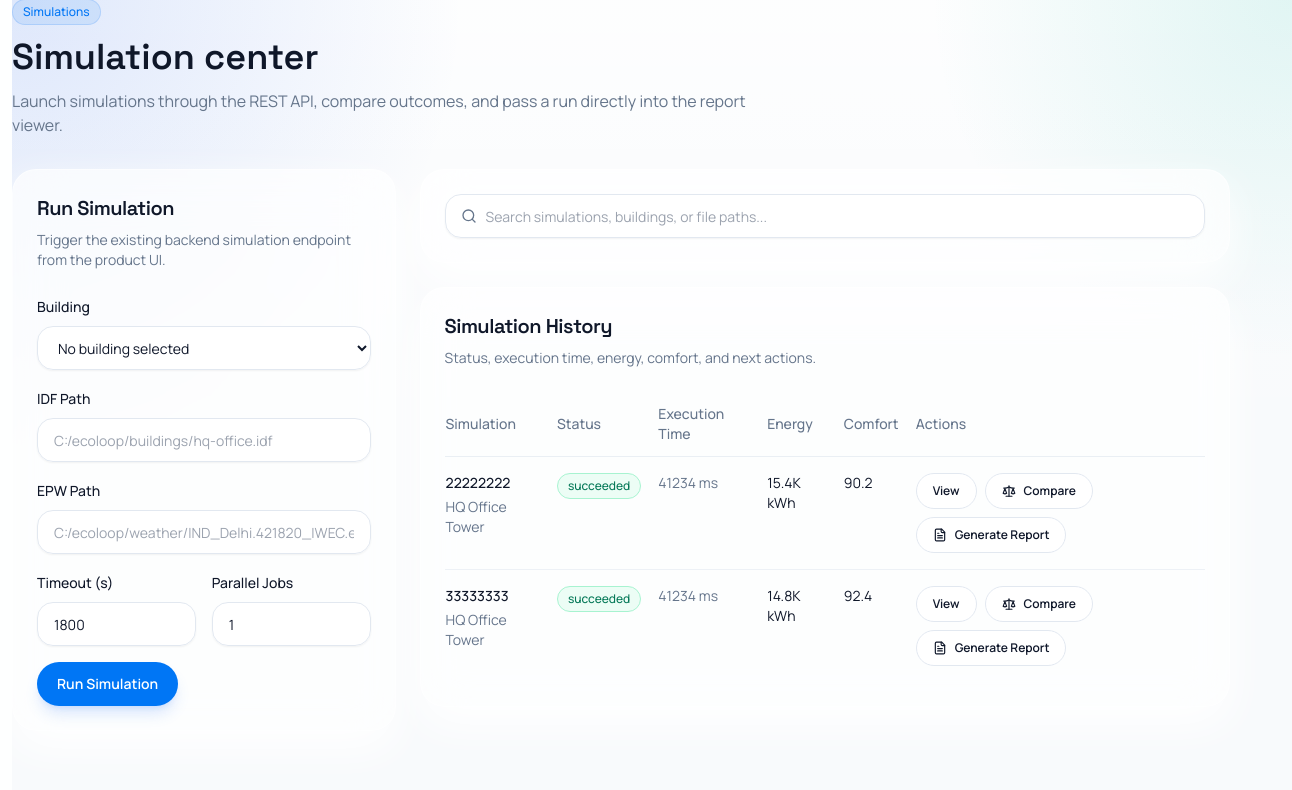
it: SimulationsPage › renders simulation history and detail views
Expected: the heading "Simulation History" is shown, [444,313,612,339]
What coordinates should you click on to do the following:
click the button "View" in the row of "22222222"
I would click on:
 (946, 491)
Its box is [916,473,976,509].
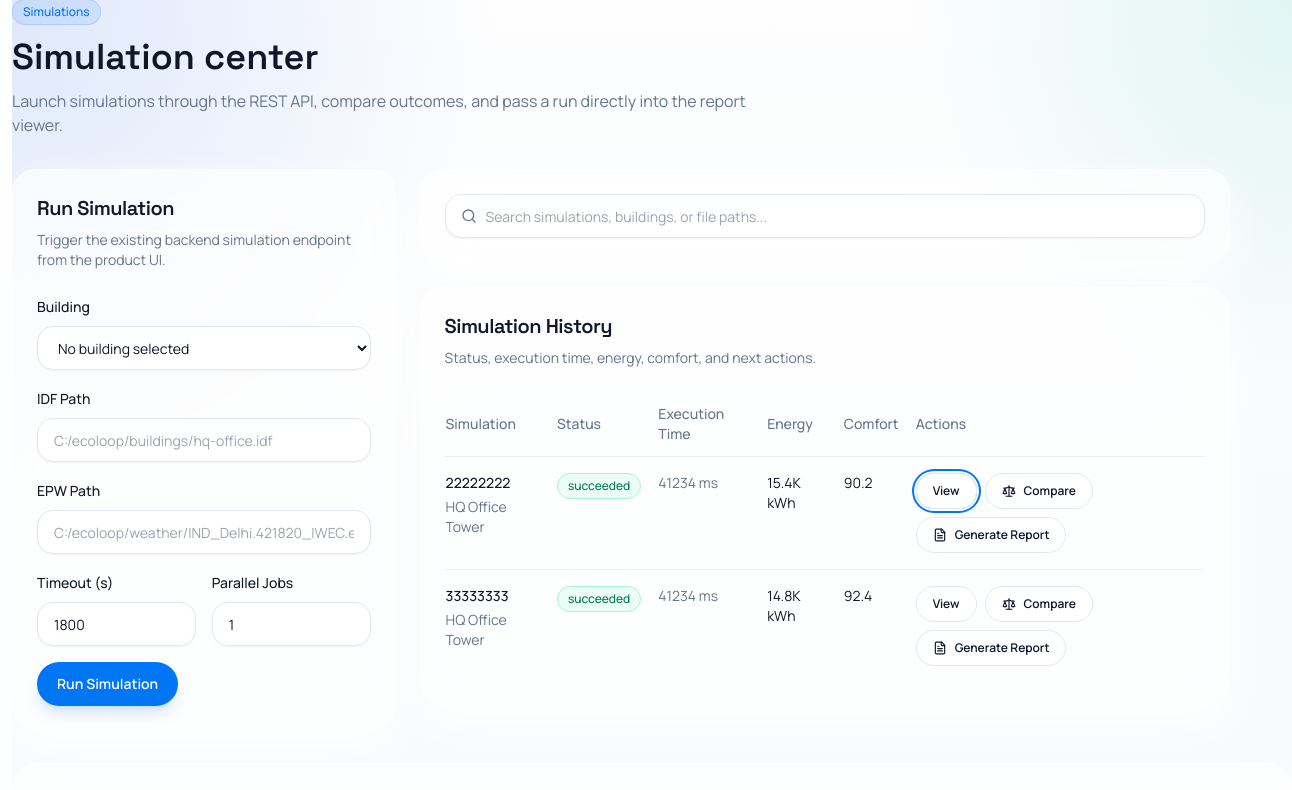
What coordinates should you click on to do the following:
click the button "Compare" in the row of "22222222"
I would click on:
 (1039, 491)
Its box is [984,473,1093,509].
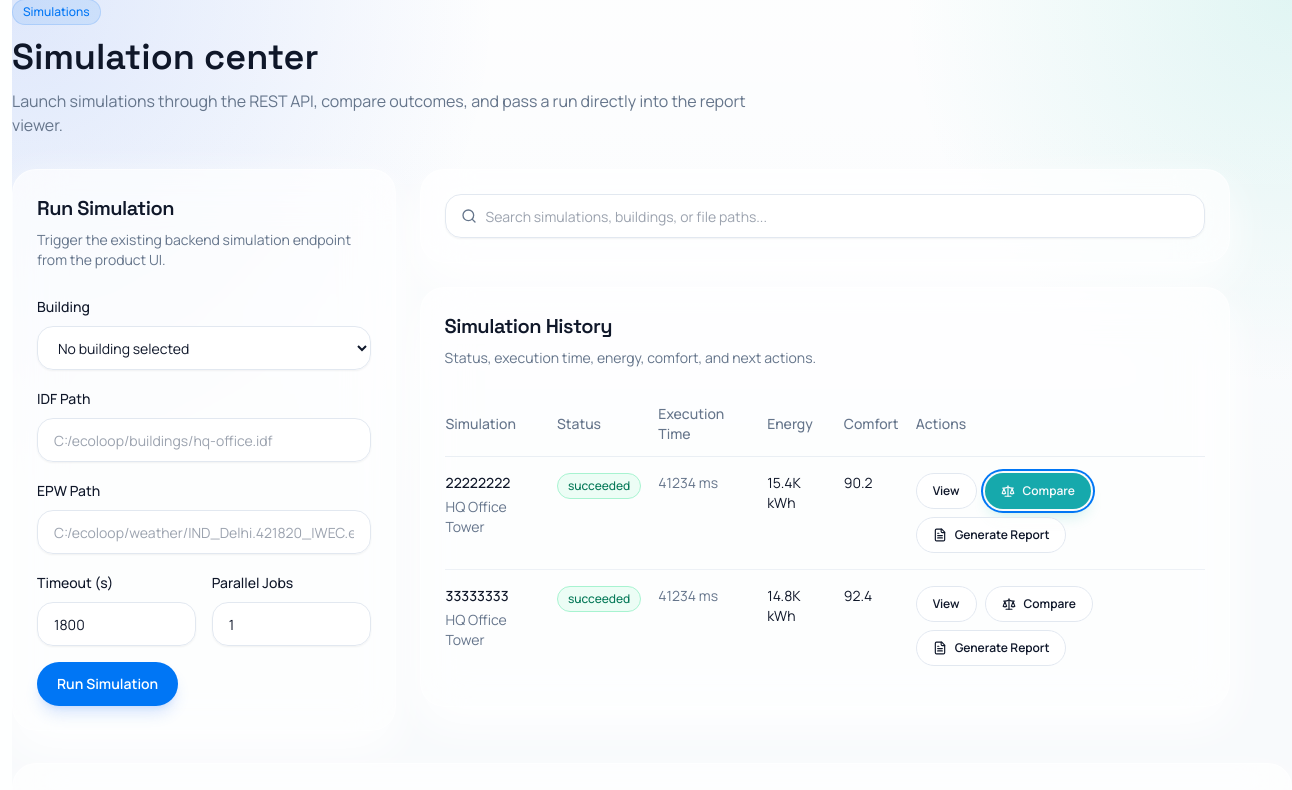
What coordinates should you click on to do the following:
click the button "Compare" in the row of "33333333"
I would click on:
 (1039, 604)
Its box is [984,586,1093,622].
(page scrolled)
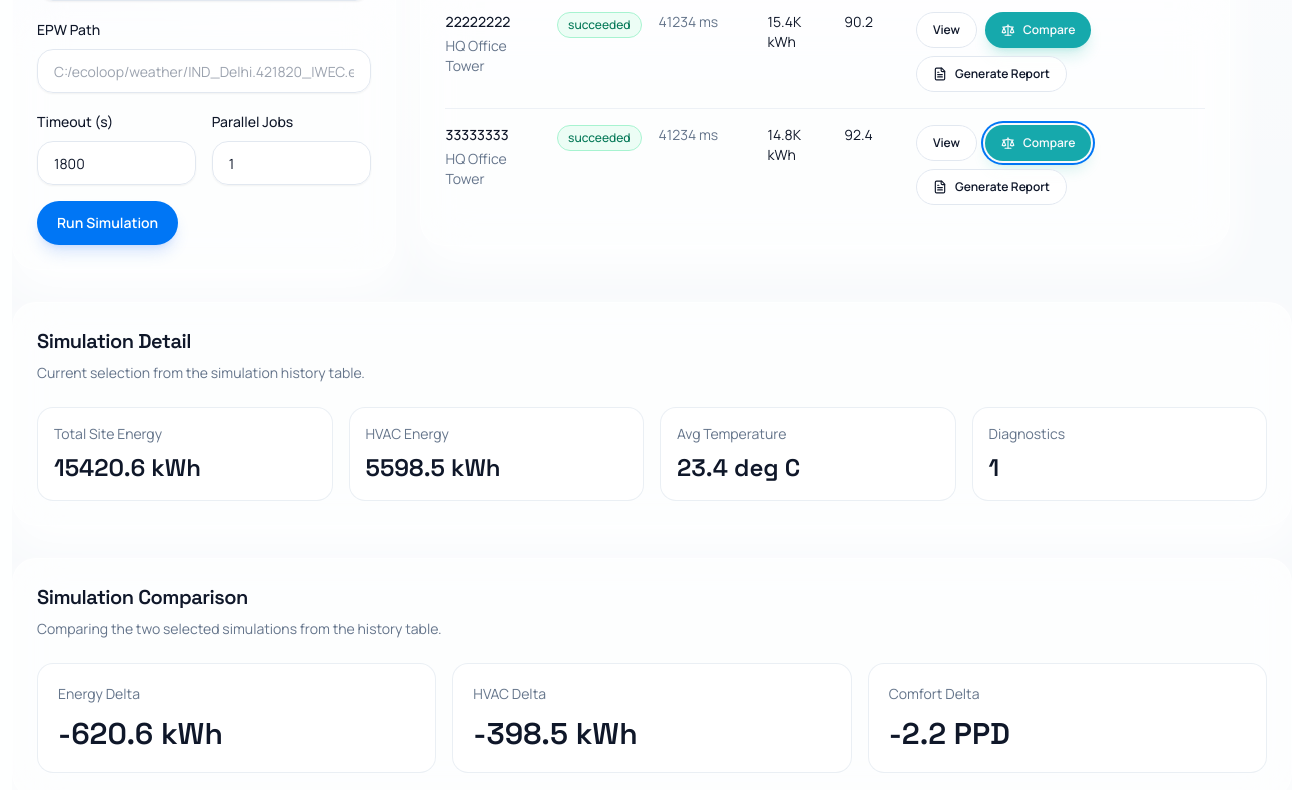
Result: the heading "Simulation Comparison" is shown at [37,584,248,610]
